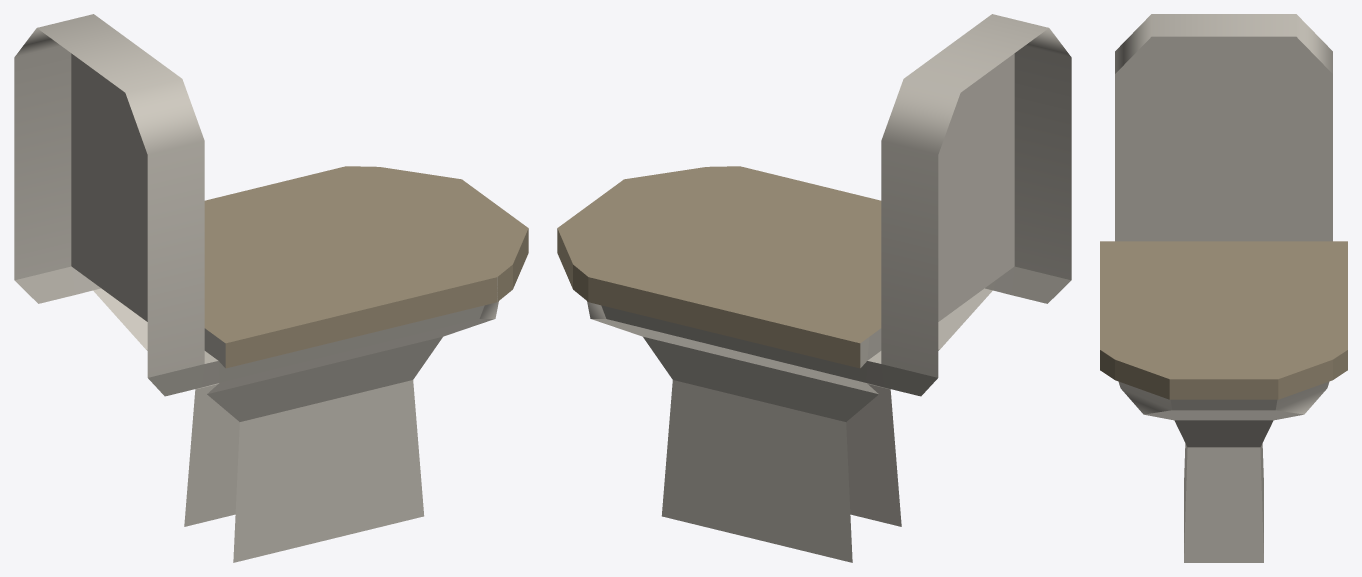
File: Toilet.fbx
3 views of the same model, side by side, from view 1: azimuth 30°, elevation 25°; view 2: azimuth 150°, elevation 25°; view 3: azimuth 270°, elevation 25° (orthographic). The views are drawn at different scales.
Parts seen in each view (by area): view 1: Toilet; view 2: Toilet; view 3: Toilet.
Part boxes in pixels (x1=…): Toilet: x1=14, y1=14, x2=528, y2=562; Toilet: x1=557, y1=14, x2=1071, y2=562; Toilet: x1=1100, y1=14, x2=1347, y2=562.
Bounding box in the file's own units: 5.31 × 6.32 × 3.36.
